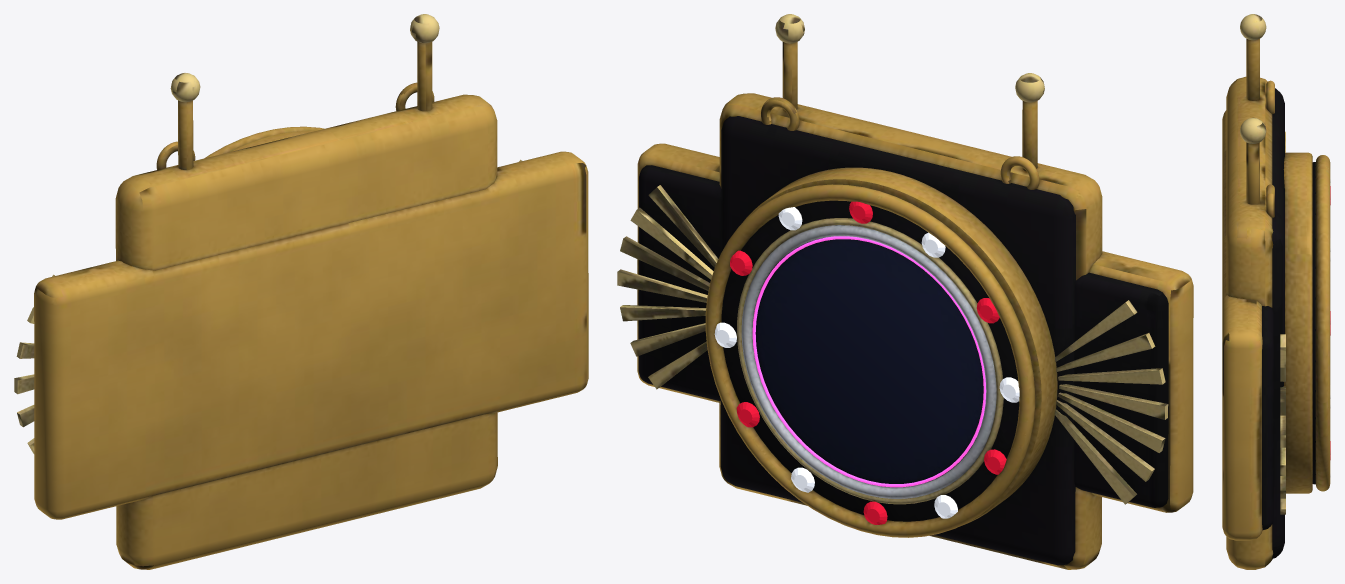
3 renders of one model, left to right at view 1: azimuth 30°, elevation 25°; view 2: azimuth 150°, elevation 25°; view 3: azimuth 270°, elevation 25°, orthographic. The views are drawn at different scales.
Visible parts, largest first — view 1: Polished_gold, Champagne_gold; view 2: Black_lacquer, Polished_gold, Midnight_enamel, Champagne_gold, Chrome_bezel, glow_Diamond_studs, glow_Ruby_studs, glow_Magenta_accent; view 3: Polished_gold, Black_lacquer, Champagne_gold.
Part boxes in pixels (left/top/right/bottom): Polished_gold: left=34, top=41, right=588, bottom=569; Champagne_gold: left=14, top=14, right=522, bottom=453; Black_lacquer: left=638, top=116, right=1168, bottom=565; Polished_gold: left=637, top=42, right=1193, bottom=569; Midnight_enamel: left=755, top=238, right=983, bottom=483; Champagne_gold: left=617, top=14, right=1168, bottom=504; Chrome_bezel: left=741, top=225, right=996, bottom=498; glow_Diamond_studs: left=714, top=207, right=1019, bottom=518; glow_Ruby_studs: left=730, top=201, right=1006, bottom=524; glow_Magenta_accent: left=752, top=236, right=986, bottom=487; Polished_gold: left=1222, top=39, right=1330, bottom=569; Black_lacquer: left=1262, top=88, right=1315, bottom=558; Champagne_gold: left=1240, top=14, right=1285, bottom=514.
Bounding box in the file's own units: 2.74 × 2.31 × 0.5272.
Materials: 8 (5 with a texture image).
